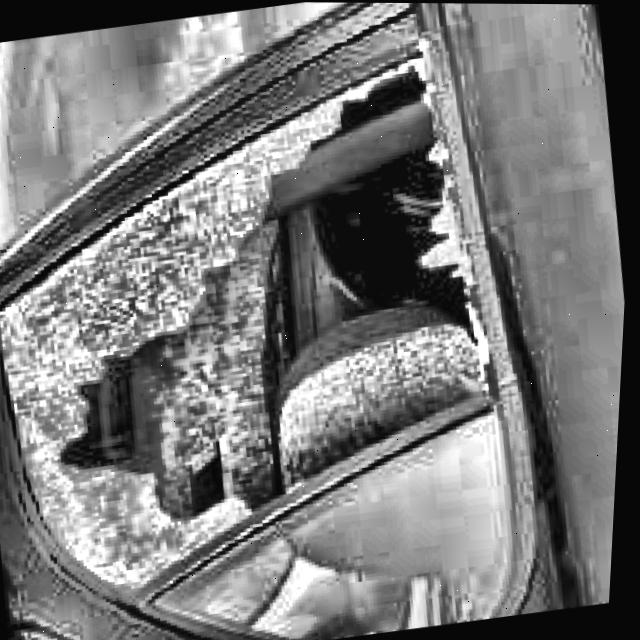glass_shatter: (201, 126, 504, 431), (0, 276, 252, 565)
